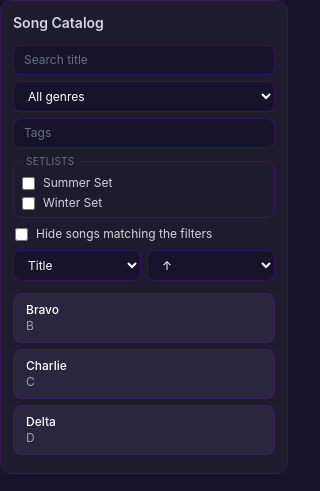
it: SongCatalogPanel — multi-select setlist filter › shows the UNION of the selected setlists, minus songs in the current setlist
Expected: the text "Bravo" is shown, [26,302,59,317]
Click the checkbox labelled "Summer Set".
click(28, 183)  # box [22,176,35,190]
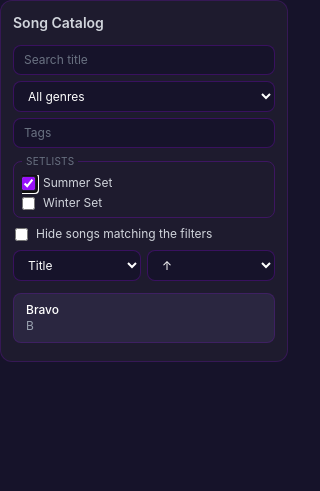
Click the checkbox labelled "Winter Set".
click(28, 203)  # box [22,196,35,210]
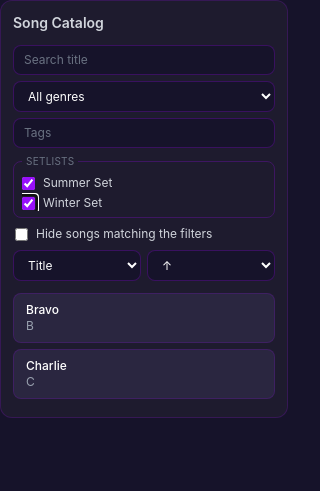
Expected: the text "Bravo" is shown, [26,302,59,317]
Expected: the text "Charlie" is shown, [26,358,67,373]
